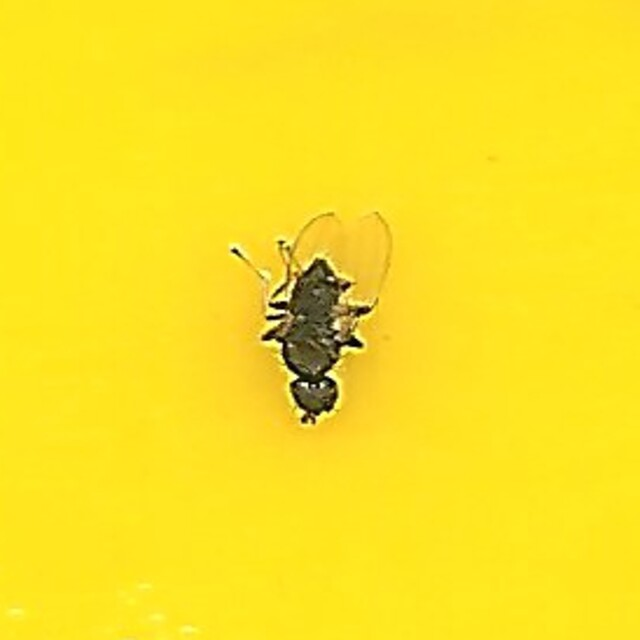Brachycera: (234, 208, 406, 432)
